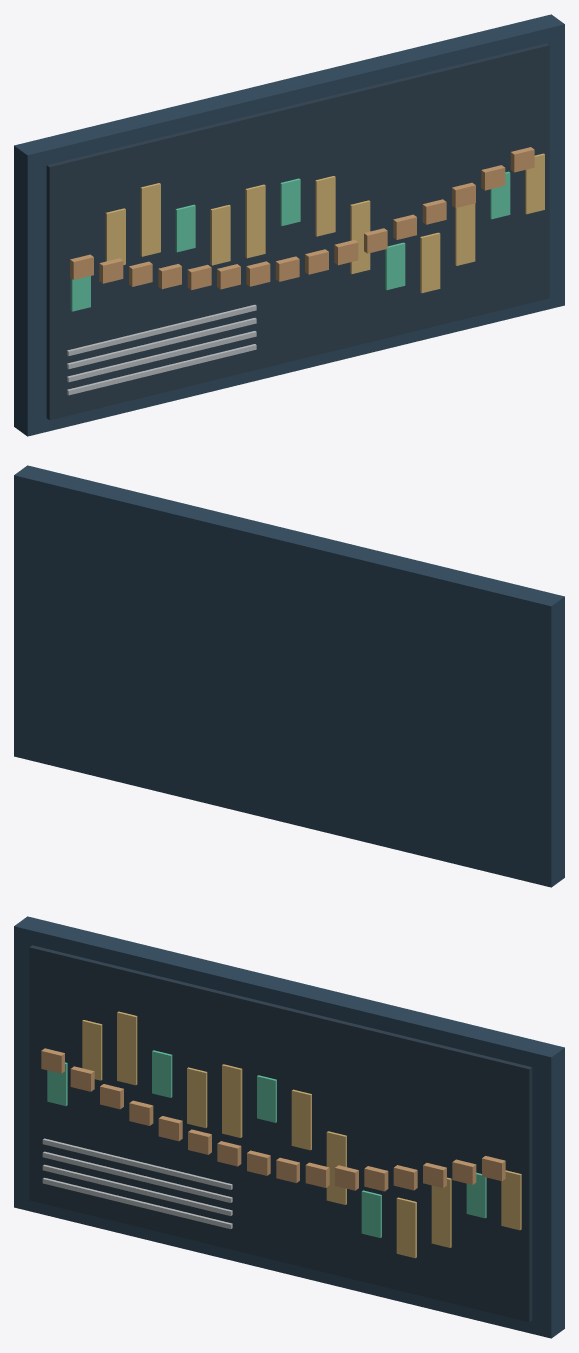
Rendered from 07_L77_HolographicCopperOverburdenMap.glb.
3 views of the same model, one above another, from view 1: azimuth 30°, elevation 25°; view 2: azimuth 150°, elevation 25°; view 3: azimuth 330°, elevation 25° (orthographic).
Parts seen in each view (by area): view 1: HolographicCopperOverburdenMap_Node_0001, HolographicCopperOverburdenMap_Node_0000, HolographicCopperOverburdenMap_Node_0007, HolographicCopperOverburdenMap_Node_0004, HolographicCopperOverburdenMap_Node_0018, HolographicCopperOverburdenMap_Node_0017, HolographicCopperOverburdenMap_Node_0016, HolographicCopperOverburdenMap_Node_0019, HolographicCopperOverburdenMap_Node_0013, HolographicCopperOverburdenMap_Node_0012, HolographicCopperOverburdenMap_Node_0006, HolographicCopperOverburdenMap_Node_0009 (+16 smaller); view 2: HolographicCopperOverburdenMap_Node_0000; view 3: HolographicCopperOverburdenMap_Node_0001, HolographicCopperOverburdenMap_Node_0000, HolographicCopperOverburdenMap_Node_0004, HolographicCopperOverburdenMap_Node_0007, HolographicCopperOverburdenMap_Node_0017, HolographicCopperOverburdenMap_Node_0016, HolographicCopperOverburdenMap_Node_0013, HolographicCopperOverburdenMap_Node_0018, HolographicCopperOverburdenMap_Node_0019, HolographicCopperOverburdenMap_Node_0012, HolographicCopperOverburdenMap_Node_0006, HolographicCopperOverburdenMap_Node_0009 (+16 smaller).
Boxes of the visible parts, x1,y1,x2,y2 form: HolographicCopperOverburdenMap_Node_0001: [46, 43, 549, 420]; HolographicCopperOverburdenMap_Node_0000: [14, 14, 564, 436]; HolographicCopperOverburdenMap_Node_0007: [245, 184, 265, 258]; HolographicCopperOverburdenMap_Node_0004: [140, 183, 160, 256]; HolographicCopperOverburdenMap_Node_0018: [67, 318, 256, 369]; HolographicCopperOverburdenMap_Node_0017: [67, 331, 256, 382]; HolographicCopperOverburdenMap_Node_0016: [67, 344, 256, 395]; HolographicCopperOverburdenMap_Node_0019: [67, 304, 256, 356]; HolographicCopperOverburdenMap_Node_0013: [455, 203, 475, 265]; HolographicCopperOverburdenMap_Node_0012: [420, 232, 440, 293]; HolographicCopperOverburdenMap_Node_0006: [210, 205, 230, 265]; HolographicCopperOverburdenMap_Node_0009: [315, 176, 335, 236]; HolographicCopperOverburdenMap_Node_0000: [14, 465, 564, 887]; HolographicCopperOverburdenMap_Node_0001: [29, 945, 532, 1322]; HolographicCopperOverburdenMap_Node_0000: [14, 916, 564, 1338]; HolographicCopperOverburdenMap_Node_0004: [117, 1011, 137, 1085]; HolographicCopperOverburdenMap_Node_0007: [222, 1064, 242, 1137]; HolographicCopperOverburdenMap_Node_0017: [42, 1164, 232, 1215]; HolographicCopperOverburdenMap_Node_0016: [42, 1177, 232, 1229]; HolographicCopperOverburdenMap_Node_0013: [431, 1177, 451, 1247]; HolographicCopperOverburdenMap_Node_0018: [42, 1151, 232, 1202]; HolographicCopperOverburdenMap_Node_0019: [42, 1138, 232, 1189]; HolographicCopperOverburdenMap_Node_0012: [396, 1197, 416, 1258]; HolographicCopperOverburdenMap_Node_0006: [187, 1067, 207, 1128]; HolographicCopperOverburdenMap_Node_0009: [291, 1089, 311, 1150].
Bounding box in the file's own units: 1.72 × 0.86 × 0.1275.
